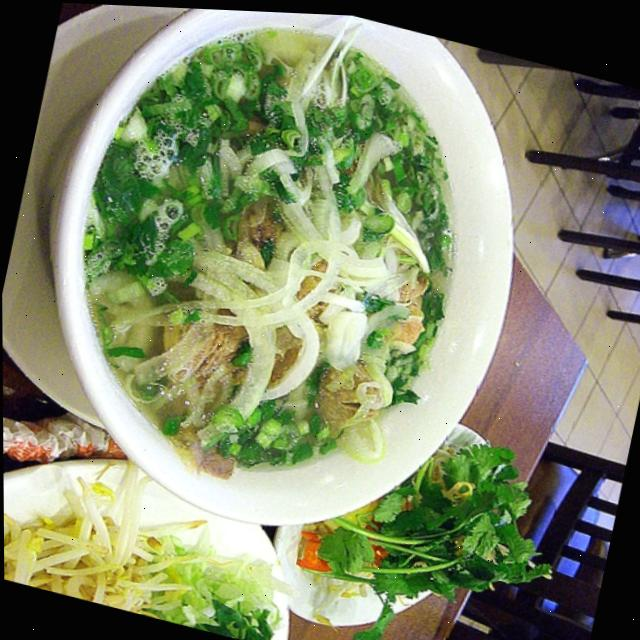面条主食: (0, 0, 588, 595)
